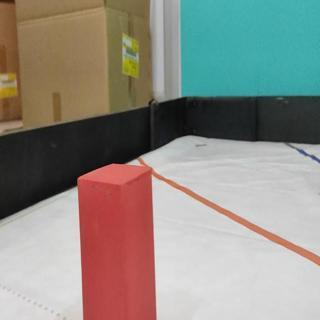redbox: (77, 163, 158, 320)
